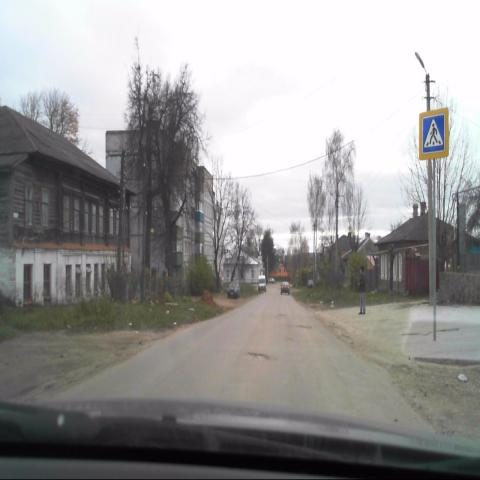5_19_1: (420, 110, 448, 162)
